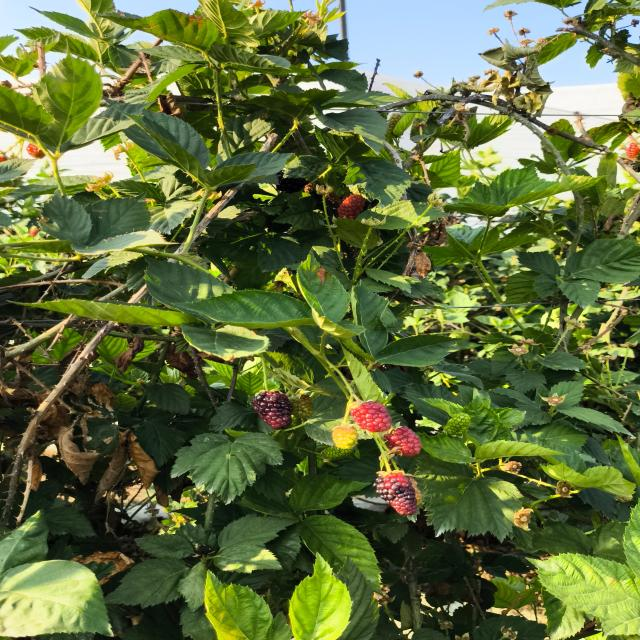marron: (374, 471, 418, 515), (253, 390, 292, 429)
naranja: (350, 401, 392, 432), (384, 426, 421, 457), (337, 194, 366, 219)
verde: (332, 424, 358, 450), (443, 413, 471, 436), (290, 396, 314, 421)
